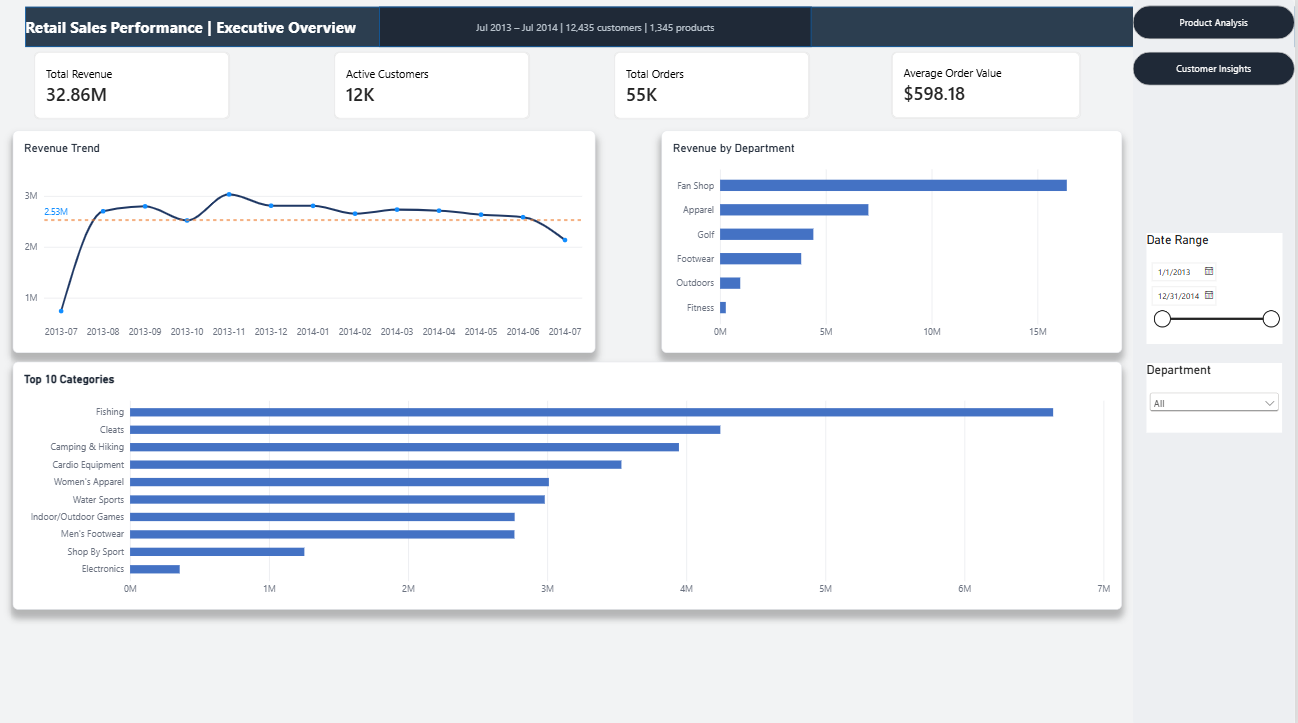

What the dashboard file says about the page in this screenshot:
{"tool":"powerbi","page":{"name":"Executive Overview","canvas":[1920,1080],"ordinal":0},"visuals":[{"type":"shape","box":[39.8,12.7,1880.2,59.7],"z":0},{"type":"cardVisual","fields":{"Data":["Measure.Total Revenue"]},"box":[52.5,79.6,290,100],"z":1000},{"type":"cardVisual","fields":{"Data":["Measure.Total Orders"]},"box":[910.3,79.6,290,100],"z":2000},{"type":"cardVisual","fields":{"Data":["Measure.Active Customers"]},"box":[495.8,79.6,290,100],"z":3000},{"type":"cardVisual","fields":{"Data":["Measure.Average Order Value"]},"box":[1322.9,79.6,280.5,99.5],"z":4000},{"type":"lineChart","title":"Revenue Trend","fields":{"Category":["bi dim_date.year_month"],"Y":["Measure.Total Revenue"]},"box":[19.9,195.4,863.2,329.4],"z":5000},{"type":"shape","box":[1680,0,240,1080.4],"z":5500},{"type":"clusteredBarChart","title":"Revenue by Department","fields":{"Category":["bi dim_product.department_name"],"Y":["Measure.Total Revenue"]},"box":[980.8,195.4,682.2,329.4],"z":6000},{"type":"clusteredBarChart","title":"Top 10 Categories","fields":{"Category":["bi dim_product.category_name"],"Y":["Measure.Total Revenue"]},"box":[19.9,539.3,1643.2,367.4],"z":8000},{"type":"slicer","title":"Date Range","fields":{"Values":["bi dim_date.date_key"]},"box":[1699.3,348.4,200.9,162.9],"z":8001},{"type":"slicer","title":"Department","fields":{"Values":["bi dim_product.department_name"]},"box":[1699.3,540.2,200.9,103.2],"z":8002},{"type":"shape","box":[562.8,12.7,640.6,59.7],"z":8003},{"type":"pageNavigator","box":[1680,80,240,50],"z":8005},{"type":"pageNavigator","box":[1680,12,240,50],"z":8006}]}

Visuals, with their boxes in screenshot pixels (x1, y1, x2, y2), scaled from the page's 1920x1080 canvas onto the 1298x723 screenshot:
shape: box=[27, 9, 1297, 48]
cardVisual - Measure.Total Revenue: box=[35, 53, 232, 120]
cardVisual - Measure.Total Orders: box=[615, 53, 811, 120]
cardVisual - Measure.Active Customers: box=[335, 53, 531, 120]
cardVisual - Measure.Average Order Value: box=[894, 53, 1084, 120]
"Revenue Trend" lineChart: box=[13, 131, 597, 351]
shape: box=[1136, 0, 1297, 722]
"Revenue by Department" clusteredBarChart: box=[663, 131, 1124, 351]
"Top 10 Categories" clusteredBarChart: box=[13, 361, 1124, 607]
"Date Range" slicer: box=[1149, 233, 1285, 342]
"Department" slicer: box=[1149, 362, 1285, 431]
shape: box=[380, 9, 814, 48]
pageNavigator: box=[1136, 54, 1297, 87]
pageNavigator: box=[1136, 8, 1297, 42]
